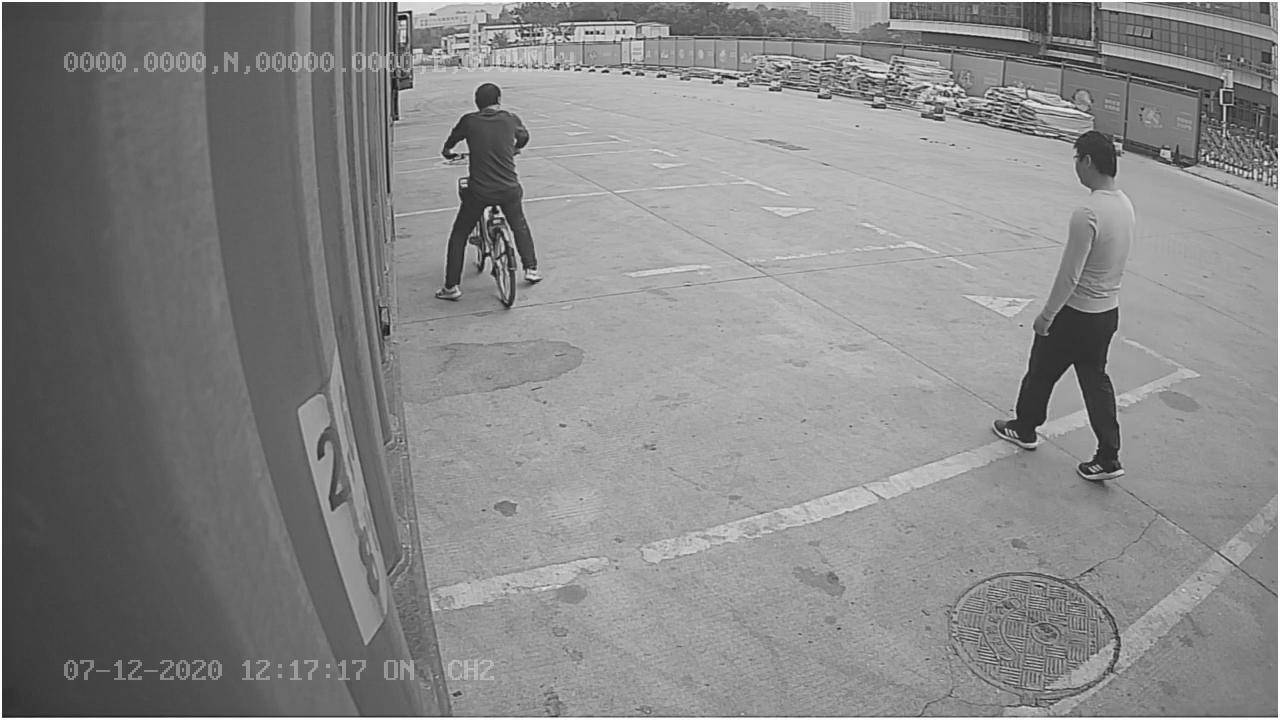person: (992, 122, 1140, 487)
